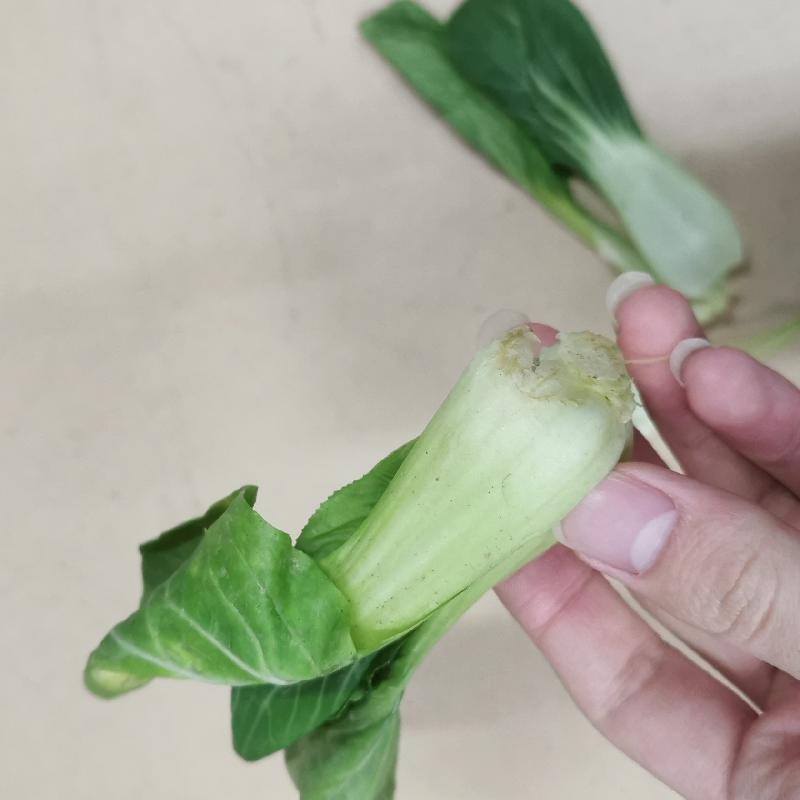green vegatable: (82, 314, 645, 800)
